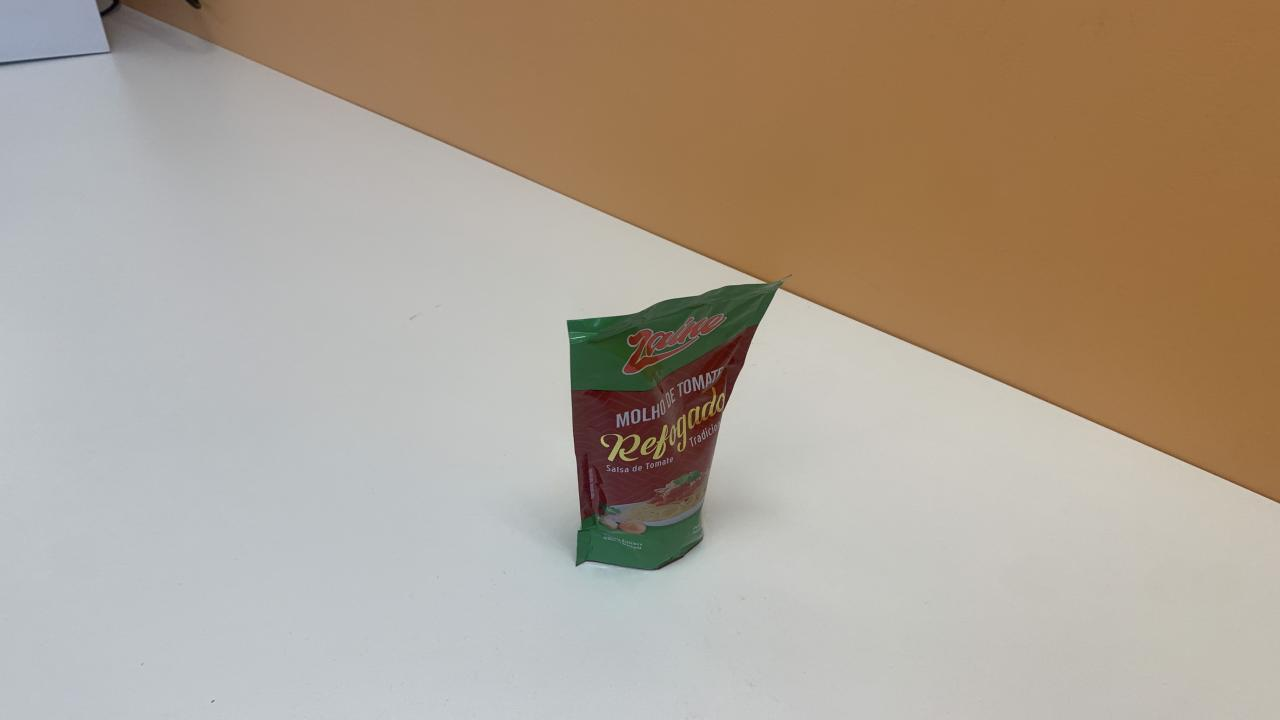Tomato_Sauce-Pantry_Items: (565, 284, 778, 572)
